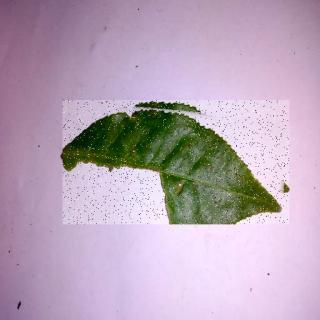Bird Eye Spot: (64, 101, 291, 225)
